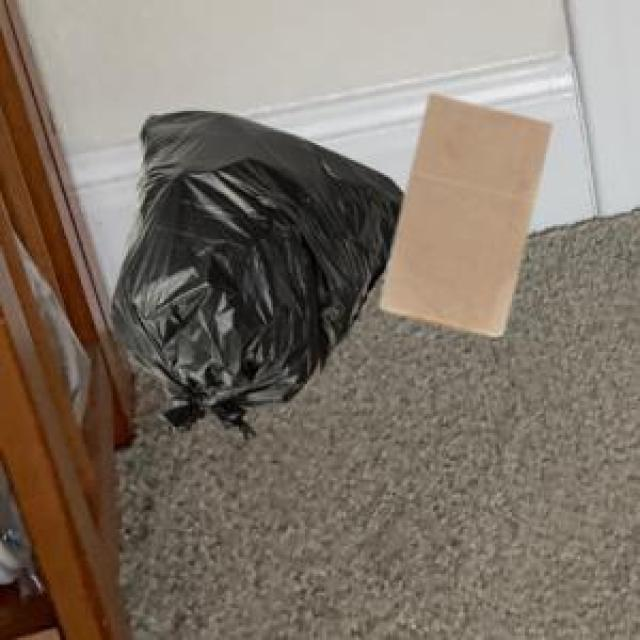miscellaneous trash: (107, 107, 401, 435)
paper: (378, 90, 546, 333)
